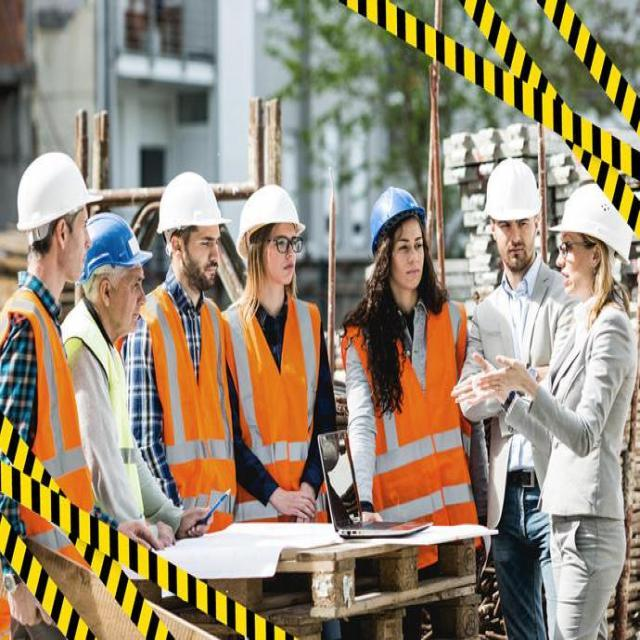reflective_jacket: (340, 294, 477, 540), (139, 286, 238, 538), (0, 289, 93, 547), (229, 296, 325, 515)
safety_helmet: (11, 146, 100, 235), (550, 180, 633, 256), (153, 166, 226, 240), (79, 208, 152, 279), (236, 177, 307, 247), (480, 153, 542, 227), (363, 179, 427, 249)
